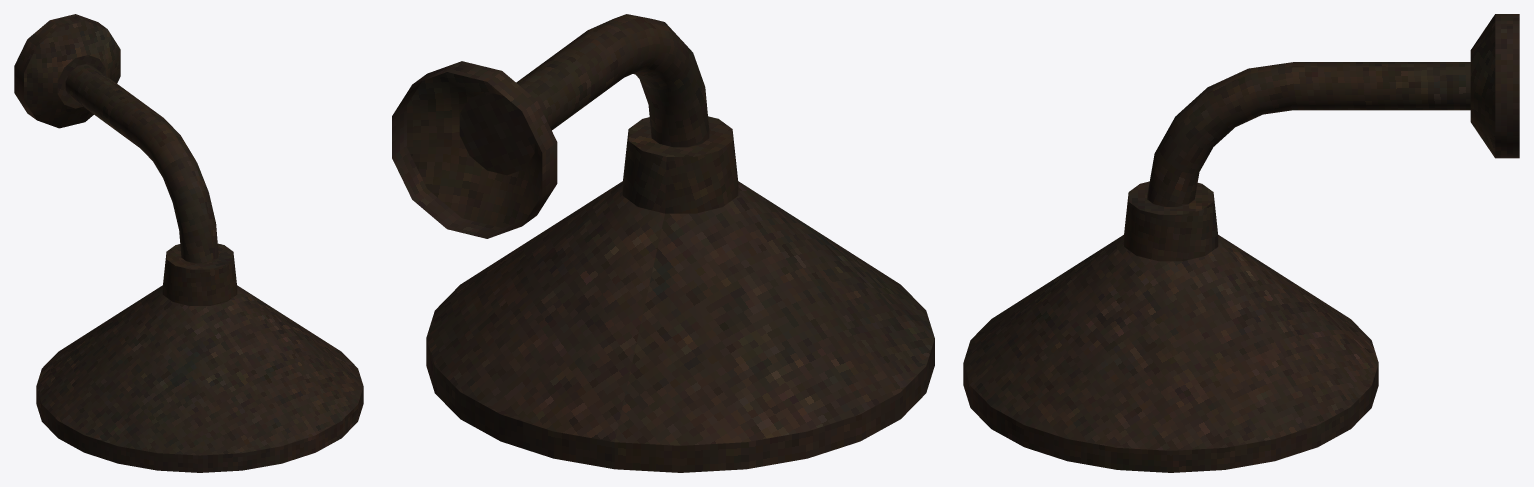
Rendered from lamp_mx_2_on.glb.
The picture shows the model from 3 angles, left to right: view 1: azimuth 30°, elevation 25°; view 2: azimuth 150°, elevation 25°; view 3: azimuth 270°, elevation 25°; orthographic projection. The views are drawn at different scales.
Visible parts, largest first — view 1: lamp_mx_2_on; view 2: lamp_mx_2_on; view 3: lamp_mx_2_on.
Boxes of the visible parts, x1=… form: lamp_mx_2_on: x1=14, y1=14, x2=363, y2=472; lamp_mx_2_on: x1=392, y1=14, x2=934, y2=472; lamp_mx_2_on: x1=963, y1=14, x2=1519, y2=472.
Size of the model in its own units: 0.357 by 0.3682 by 0.478.
Materials: 2 (2 with a texture image).
